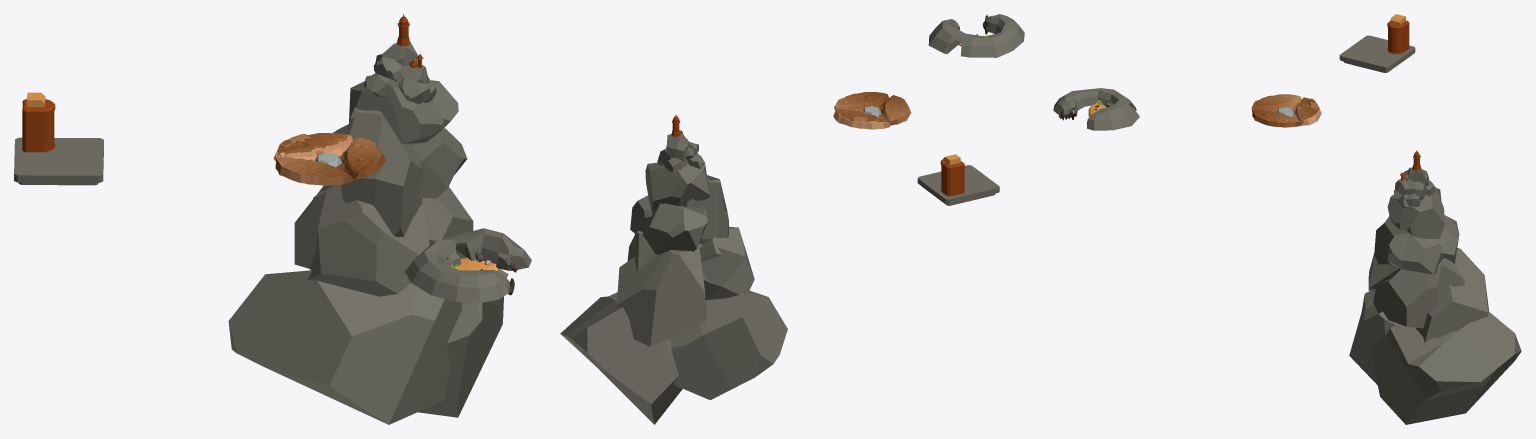
File: WORLD.glb
The picture shows the model from 3 angles, left to right: view 1: azimuth 30°, elevation 25°; view 2: azimuth 150°, elevation 25°; view 3: azimuth 270°, elevation 25°; orthographic projection. The views are drawn at different scales.
Visible parts, largest first — view 1: WORLD; view 2: WORLD; view 3: WORLD.
Part boxes in pixels (x1,y1,x2,y2): WORLD: (14,14,531,424); WORLD: (560,14,1024,424); WORLD: (1053,14,1521,424).
Size of the model in its own units: 108 by 83.14 by 126.
Materials: 7 (1 with a texture image).
